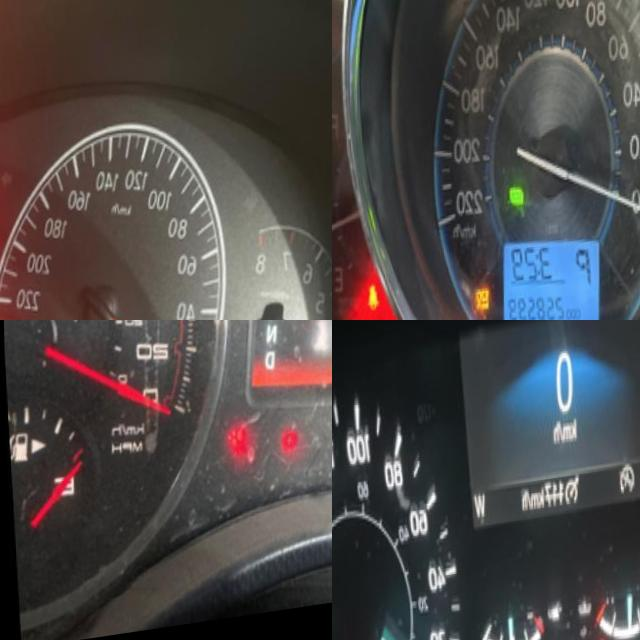Low fuel level: (326, 352, 332, 391)
Seat Belt: (365, 283, 377, 316)
